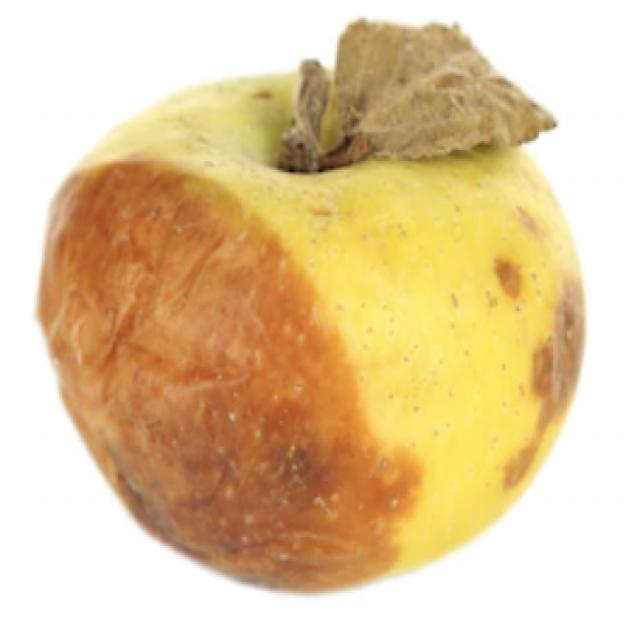Rotten: (45, 85, 620, 575)
